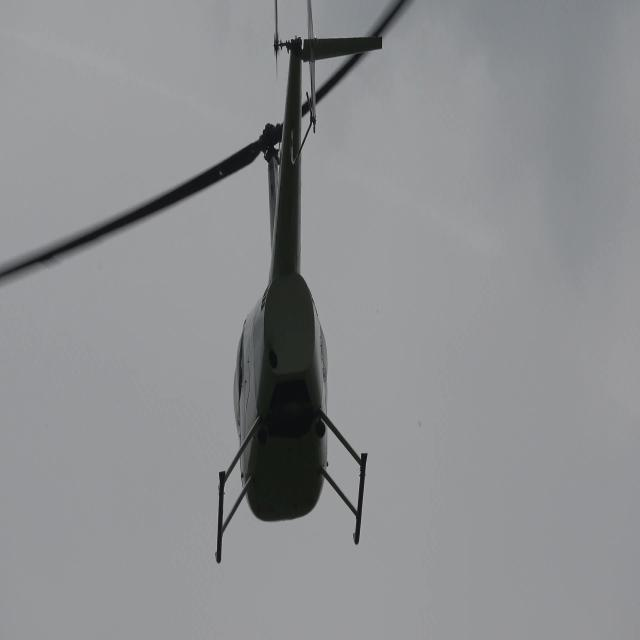CIV_HELO: (215, 5, 389, 569)
